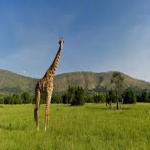Animal: (35, 36, 66, 133)
Uncultivated: (3, 98, 147, 149)
